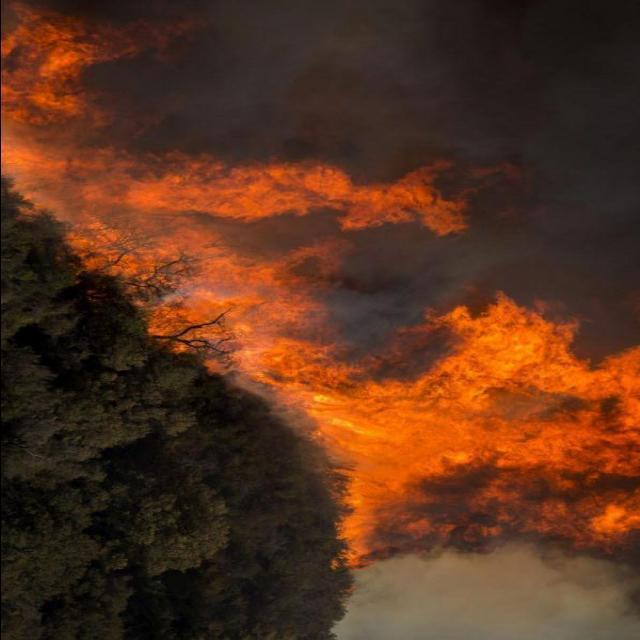Fire: (6, 6, 622, 568)
